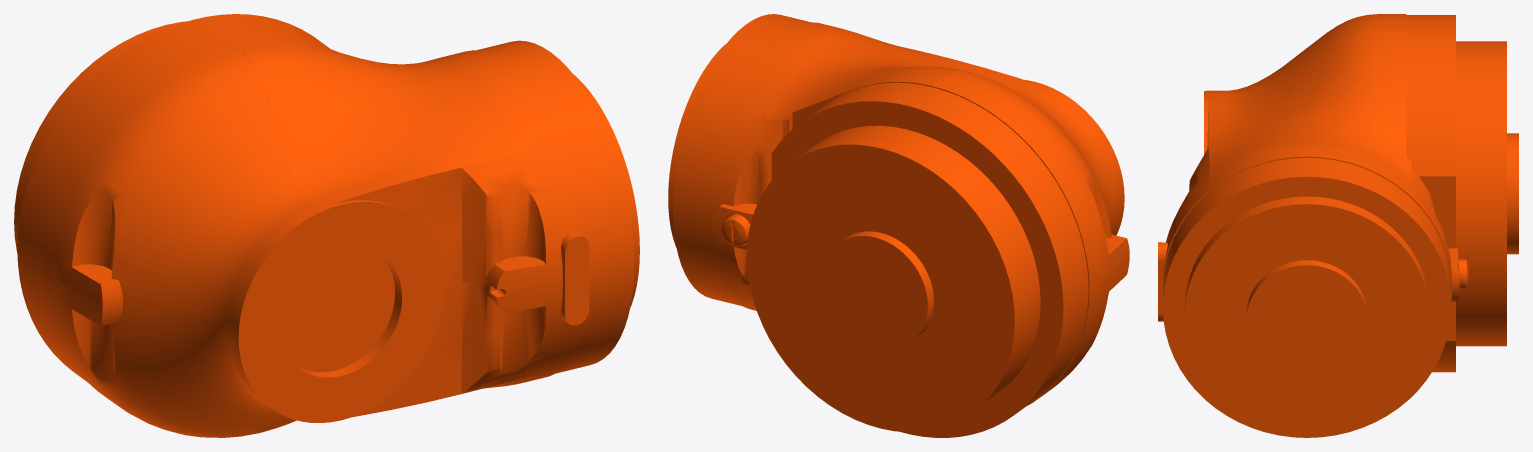
The picture shows the model from 3 angles, left to right: view 1: azimuth 30°, elevation 25°; view 2: azimuth 150°, elevation 25°; view 3: azimuth 270°, elevation 25°; orthographic projection. The views are drawn at different scales.
Parts seen in each view (by area): view 1: ZH.3ds_exportLevel2.5.3ds_KR500_R2830-4_KR360_R2830-4__10__; view 2: ZH.3ds_exportLevel2.5.3ds_KR500_R2830-4_KR360_R2830-4__10__; view 3: ZH.3ds_exportLevel2.5.3ds_KR500_R2830-4_KR360_R2830-4__10__.
Part boxes in pixels (x1=…): ZH.3ds_exportLevel2.5.3ds_KR500_R2830-4_KR360_R2830-4__10__: x1=14, y1=14, x2=639, y2=437; ZH.3ds_exportLevel2.5.3ds_KR500_R2830-4_KR360_R2830-4__10__: x1=668, y1=14, x2=1129, y2=437; ZH.3ds_exportLevel2.5.3ds_KR500_R2830-4_KR360_R2830-4__10__: x1=1158, y1=14, x2=1518, y2=437.
Size of the model in its own units: 0.3955 by 0.298 by 0.297.
